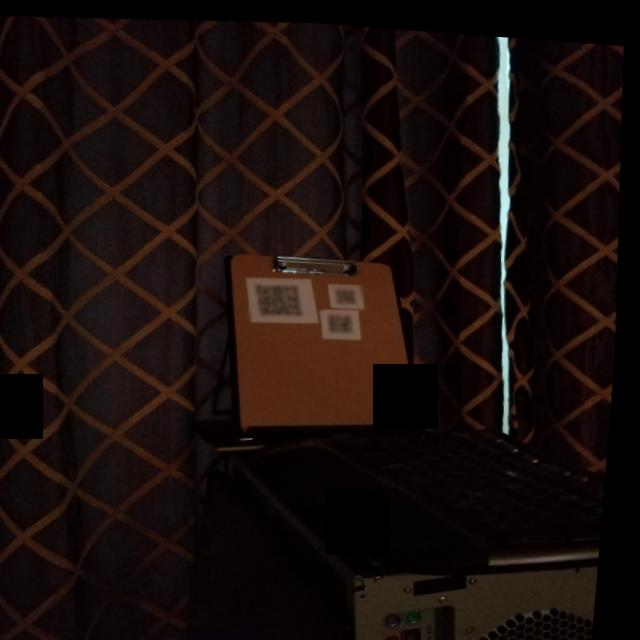QR_CODE: (251, 270, 314, 320), (327, 302, 366, 334), (335, 277, 370, 304)
